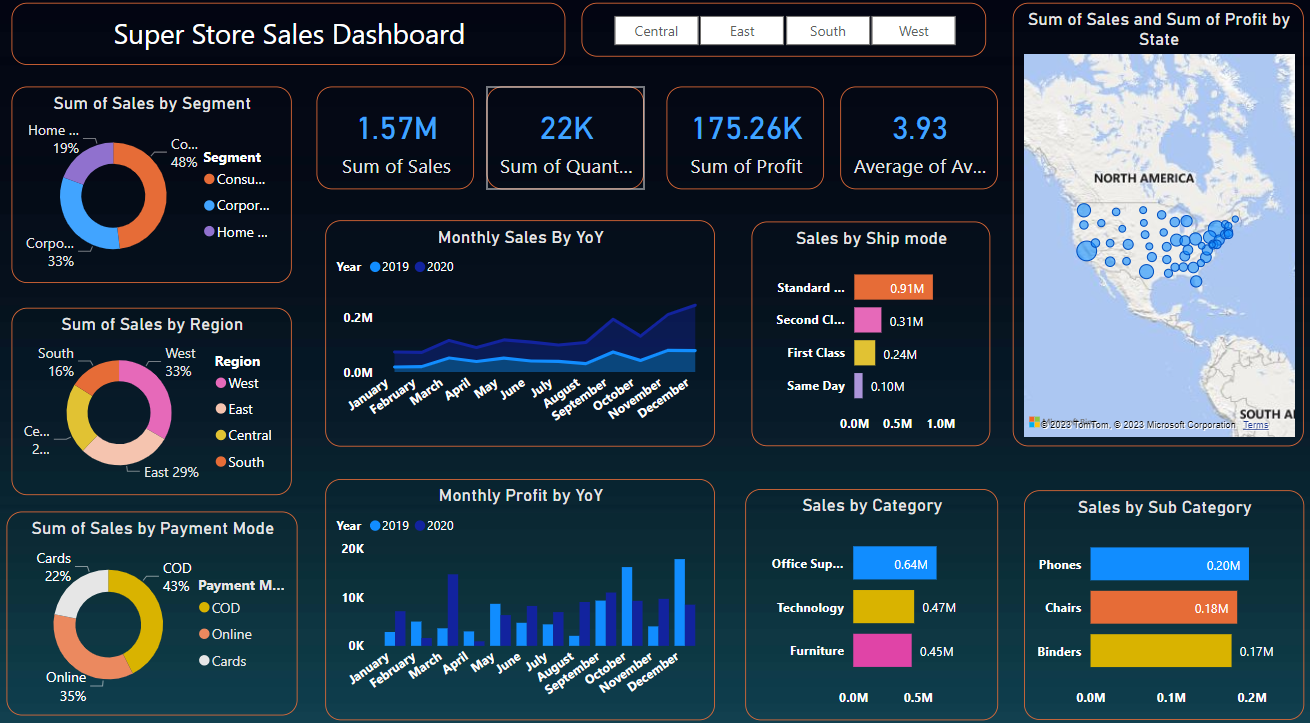

The page's visual inventory and layout, read from the dashboard file:
{"tool":"powerbi","page":{"name":"Final Report","canvas":[1280,720],"ordinal":0},"visuals":[{"type":"clusteredBarChart","title":"Sales by Category","fields":{"Category":["SuperStore_Sales_Dataset.Category"],"Y":["Sum(SuperStore_Sales_Dataset.Sales)"]},"box":[724.8,482.4,243.6,223.1],"z":0},{"type":"clusteredBarChart","title":"Sales by Sub Category","fields":{"Y":["Sum(SuperStore_Sales_Dataset.Sales)"],"Category":["SuperStore_Sales_Dataset.Sub-Category"]},"box":[993.8,483.6,270.2,221.9],"z":1000},{"type":"clusteredBarChart","title":"Sales by Ship mode","fields":{"Y":["Sum(SuperStore_Sales_Dataset.Sales)"],"Category":["SuperStore_Sales_Dataset.Ship Mode"]},"box":[730.9,224.3,230.4,217.1],"z":2000},{"type":"stackedAreaChart","title":"Monthly Sales By YoY","fields":{"Y":["Sum(SuperStore_Sales_Dataset.Sales)"],"Category":["SuperStore_Sales_Dataset.Order Date.Variation.Date Hierarchy.Month"],"Series":["SuperStore_Sales_Dataset.Order Date.Variation.Date Hierarchy.Year"]},"box":[319.6,223.1,376.3,218.3],"z":3000},{"type":"map","fields":{"Category":["SuperStore_Sales_Dataset.State"],"Size":["Sum(SuperStore_Sales_Dataset.Sales)"]},"box":[982.9,13.3,281,428.1],"z":4000},{"type":"clusteredColumnChart","title":"Monthly Profit by YoY","fields":{"Y":["Sum(SuperStore_Sales_Dataset.Profit)"],"Category":["SuperStore_Sales_Dataset.Order Date.Variation.Date Hierarchy.Month"],"Series":["SuperStore_Sales_Dataset.Order Date.Variation.Date Hierarchy.Year"]},"box":[319.6,472.8,376.3,232.8],"z":5000},{"type":"donutChart","fields":{"Y":["Sum(SuperStore_Sales_Dataset.Sales)"],"Category":["SuperStore_Sales_Dataset.Segment"]},"box":[16.9,94.1,270.2,189.3],"z":6000},{"type":"donutChart","fields":{"Y":["Sum(SuperStore_Sales_Dataset.Sales)"],"Category":["SuperStore_Sales_Dataset.Payment Mode"]},"box":[12.1,504.1,281,196.6],"z":7000},{"type":"slicer","fields":{"Values":["SuperStore_Sales_Dataset.Region"]},"box":[566.8,13.3,390.8,51.9],"z":8000},{"type":"textbox","box":[16.9,13.3,534.3,60.3],"z":9000},{"type":"card","fields":{"Values":["Sum(SuperStore_Sales_Dataset.Sales)"]},"box":[311.2,94.1,152,98.9],"z":10000},{"type":"card","fields":{"Values":["Sum(SuperStore_Sales_Dataset.Quantity)"]},"box":[475.2,94.1,152,98.9],"z":11000},{"type":"card","fields":{"Values":["Sum(SuperStore_Sales_Dataset.Profit)"]},"box":[648.8,94.1,152,98.9],"z":12000},{"type":"card","fields":{"Values":["Avg(SuperStore_Sales_Dataset.AvgDel)"]},"box":[816.5,94.1,152,98.9],"z":13000},{"type":"donutChart","fields":{"Y":["Sum(SuperStore_Sales_Dataset.Sales)"],"Category":["SuperStore_Sales_Dataset.Region"]},"box":[16.9,307.5,270.2,180.9],"z":14000}]}

Visuals, with their boxes in screenshot pixels (x1, y1, x2, y2), scaled from the page's 1280x720 canvas onto the 1310x723 screenshot:
"Sales by Category" clusteredBarChart: 742 484 991 708
"Sales by Sub Category" clusteredBarChart: 1017 486 1294 708
"Sales by Ship mode" clusteredBarChart: 748 225 984 443
"Monthly Sales By YoY" stackedAreaChart: 327 224 712 443
map - SuperStore_Sales_Dataset.State x Sum(SuperStore_Sales_Dataset.Sales): 1006 13 1294 443
"Monthly Profit by YoY" clusteredColumnChart: 327 475 712 709
donutChart - Sum(SuperStore_Sales_Dataset.Sales) x SuperStore_Sales_Dataset.Segment: 17 94 294 285
donutChart - Sum(SuperStore_Sales_Dataset.Sales) x SuperStore_Sales_Dataset.Payment Mode: 12 506 300 704
slicer - SuperStore_Sales_Dataset.Region: 580 13 980 65
textbox: 17 13 564 74
card - Sum(SuperStore_Sales_Dataset.Sales): 318 94 474 194
card - Sum(SuperStore_Sales_Dataset.Quantity): 486 94 642 194
card - Sum(SuperStore_Sales_Dataset.Profit): 664 94 820 194
card - Avg(SuperStore_Sales_Dataset.AvgDel): 836 94 991 194
donutChart - Sum(SuperStore_Sales_Dataset.Sales) x SuperStore_Sales_Dataset.Region: 17 309 294 490
